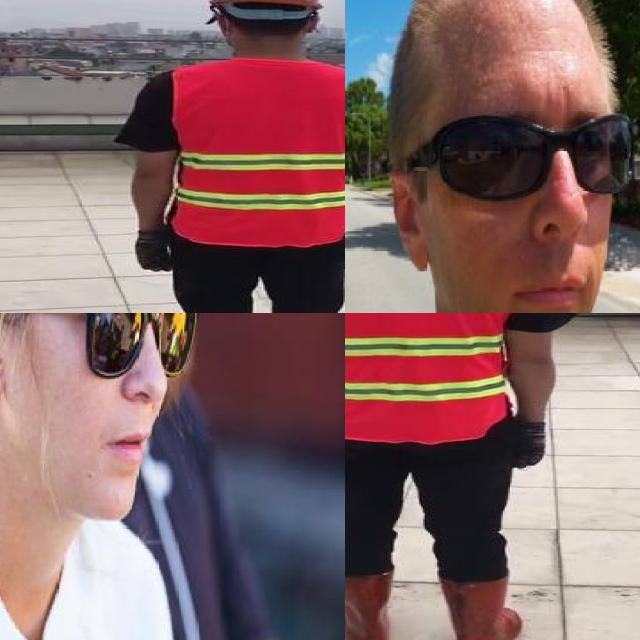boots: (437, 575, 524, 640), (345, 571, 396, 640)
face_nomask: (434, 111, 635, 313), (72, 313, 186, 484)
glasses: (399, 102, 640, 209), (0, 313, 200, 391)
hand_glove: (132, 228, 171, 272), (512, 422, 547, 469)
head_helmet: (208, 0, 327, 10)
head_nohelmet: (412, 0, 607, 54)
person: (345, 0, 640, 313), (0, 313, 228, 640), (345, 313, 568, 640), (116, 0, 345, 313)
vest: (172, 59, 345, 247), (345, 313, 515, 444)
